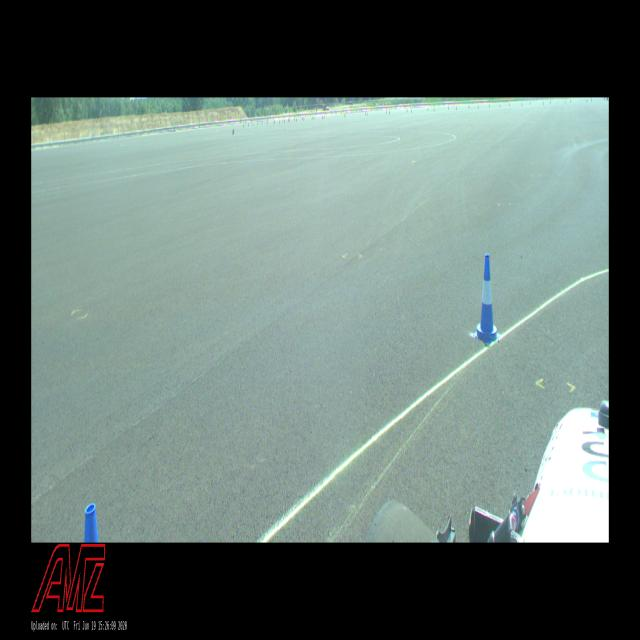blue_cone: (473, 253, 500, 342)
